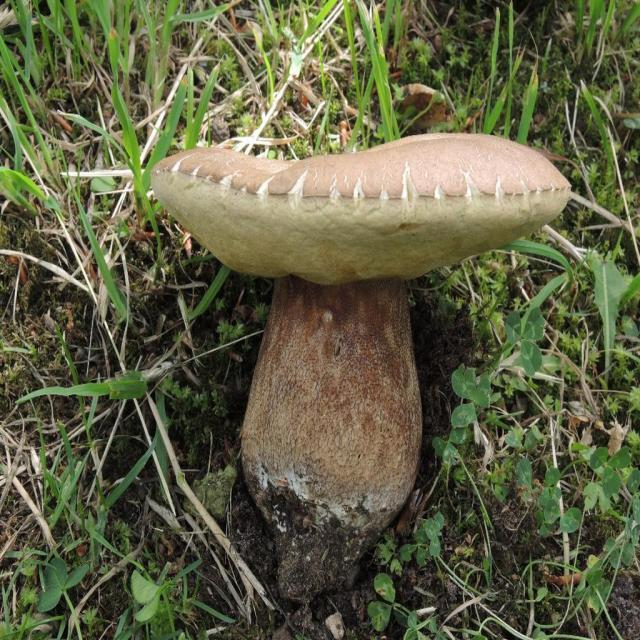Boletus: (152, 129, 571, 599)
